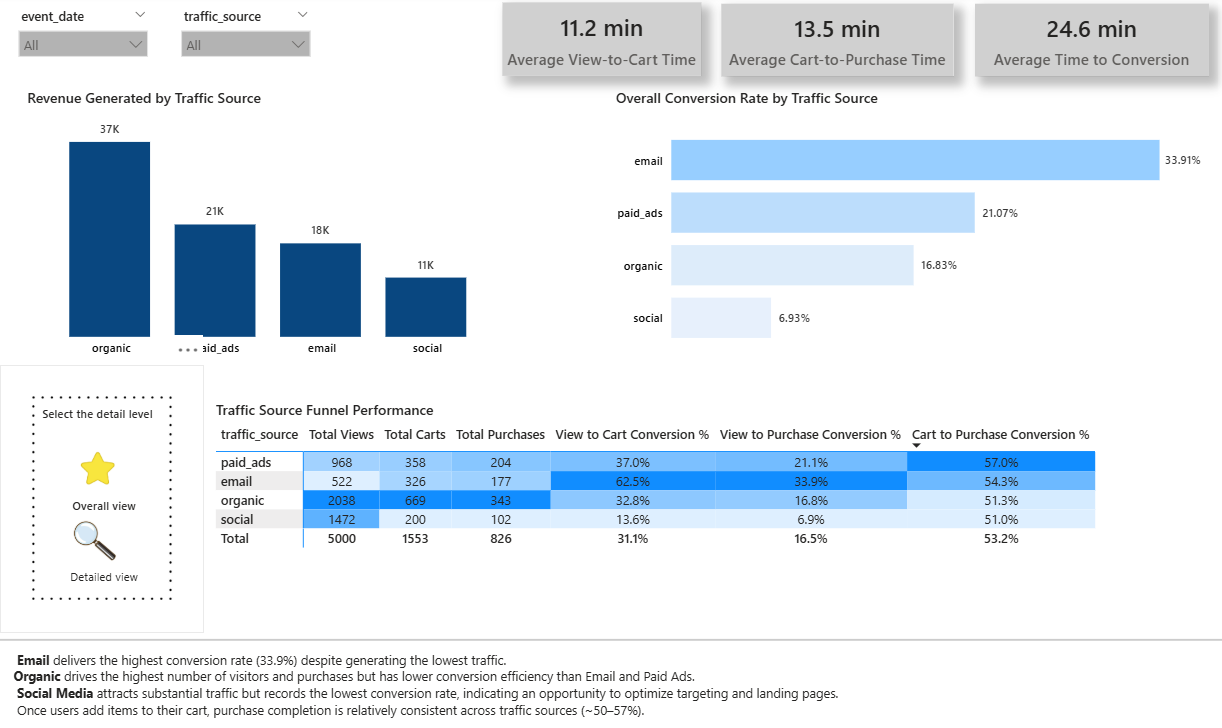

Layout of this report page (visuals, bound fields, positions):
{"tool":"powerbi","page":{"name":"Performance","canvas":[1280,770],"ordinal":1},"visuals":[{"type":"barChart","title":"Overall Conversion Rate by Traffic Source","fields":{"Category":["user_events.traffic_source"],"Y":["user_events.Overall Conversion Rate"]},"box":[639.5,96.6,622.4,291],"z":0},{"type":"clusteredColumnChart","title":"Revenue Generated by Traffic Source","fields":{"Y":["user_events.Total Revenue"],"Category":["user_events.traffic_source"]},"box":[23.2,96.6,517.3,291],"z":1000},{"type":"slicer","fields":{"Values":["user_events.traffic_source"]},"box":[179.8,7.3,155.3,66],"z":2000},{"type":"slicer","fields":{"Values":["user_events.event_date"]},"box":[8.6,7.3,155.3,66],"z":3000},{"type":"card","fields":{"Values":["User Journey.Avg View to Cart"]},"box":[525.8,7.3,207.9,77],"z":4000},{"type":"card","fields":{"Values":["User Journey.Avg Cart to Purchase"]},"box":[754.5,8.6,243.3,75.8],"z":5000},{"type":"card","fields":{"Values":["User Journey.Avg Total Journey"]},"box":[1019.8,8.6,244.6,75.8],"z":6000},{"type":"image","box":[0,387.6,212.8,278.8],"z":8500},{"type":"image","box":[56.3,470.8,91.7,48.9],"z":9000,"group":"g1"},{"type":"image","box":[58.7,547.8,80.7,46.5],"z":10000,"group":"g2"},{"type":"textbox","box":[39.1,423.1,137,33],"z":10001},{"type":"textbox","box":[58.7,519.7,100.3,28.1],"z":10002,"group":"g1"},{"type":"textbox","box":[58.7,593,100.3,29.3],"z":10003,"group":"g2"},{"type":"group","id":"g1","title":"Group 1","box":[56.3,470.8,102.7,77],"z":10004},{"type":"group","id":"g2","title":"Group 2","box":[58.7,547.8,100.3,74.6],"z":10005},{"type":"lineClusteredColumnComboChart","title":"Traffic Volume vs Conversion Efficiency","fields":{"Y":["user_events.Total Visitors"],"Category":["user_events.traffic_source"],"Y2":["User Journey.Cart to Purchase Conversion %"]},"box":[227.5,409.3,942.9,256.3],"z":10006},{"type":"shape","box":[0,668.7,1280.2,12.7],"z":10007},{"type":"textbox","box":[9.2,681.3,1161.3,83.7],"z":10008}]}

Visuals, with their boxes in screenshot pixels (x1, y1, x2, y2), scaled from the page's 1280x770 canvas onto the 1222x728 screenshot:
"Overall Conversion Rate by Traffic Source" barChart: [611,91,1205,366]
"Revenue Generated by Traffic Source" clusteredColumnChart: [22,91,516,366]
slicer - user_events.traffic_source: [172,7,320,69]
slicer - user_events.event_date: [8,7,156,69]
card - User Journey.Avg View to Cart: [502,7,700,80]
card - User Journey.Avg Cart to Purchase: [720,8,953,80]
card - User Journey.Avg Total Journey: [974,8,1207,80]
image: [0,366,203,630]
image: [54,445,141,491]
image: [56,518,133,562]
textbox: [37,400,168,431]
textbox: [56,491,152,518]
textbox: [56,561,152,588]
"Group 1" group: [54,445,152,518]
"Group 2" group: [56,518,152,588]
"Traffic Volume vs Conversion Efficiency" lineClusteredColumnComboChart: [217,387,1117,629]
shape: [0,632,1221,644]
textbox: [9,644,1117,723]
